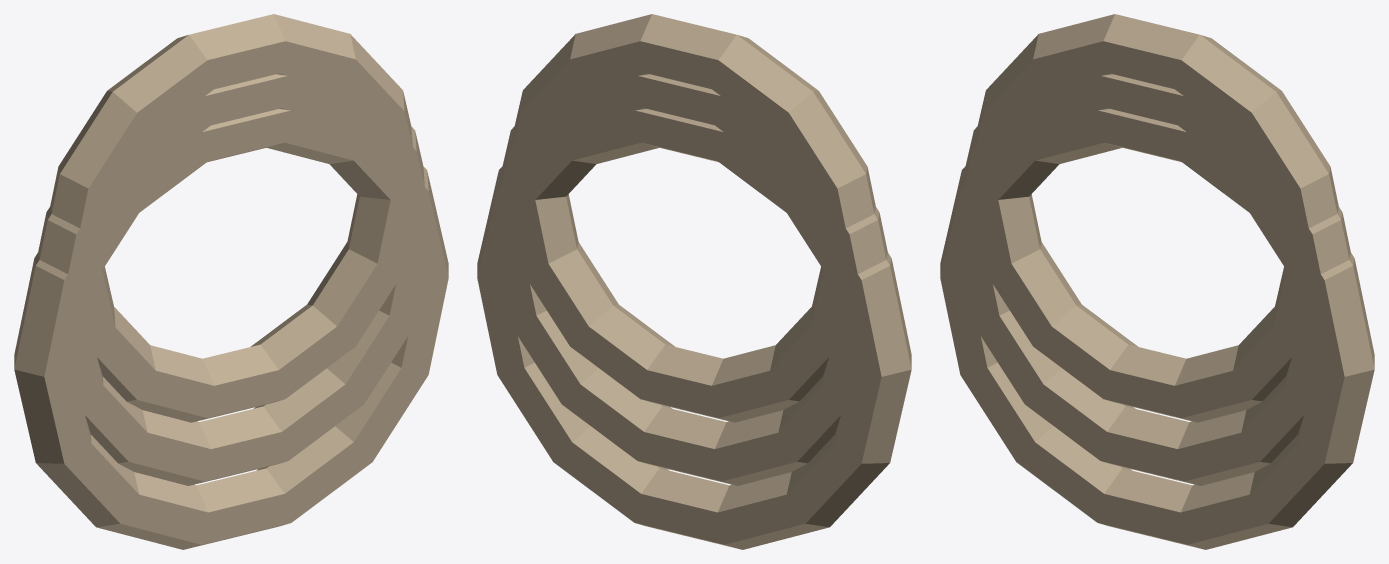
Rendered from rope.glb.
3 views of the same model, side by side, from view 1: azimuth 30°, elevation 25°; view 2: azimuth 150°, elevation 25°; view 3: azimuth 330°, elevation 25° (orthographic).
Parts seen in each view (by area): view 1: geometry_0; view 2: geometry_0; view 3: geometry_0.
Boxes of the visible parts, x1,y1,x2,y2 form: geometry_0: (14,14,448,549); geometry_0: (477,14,911,549); geometry_0: (940,14,1374,549).
Bounding box in the file's own units: 0.65 × 0.7347 × 0.0779.
